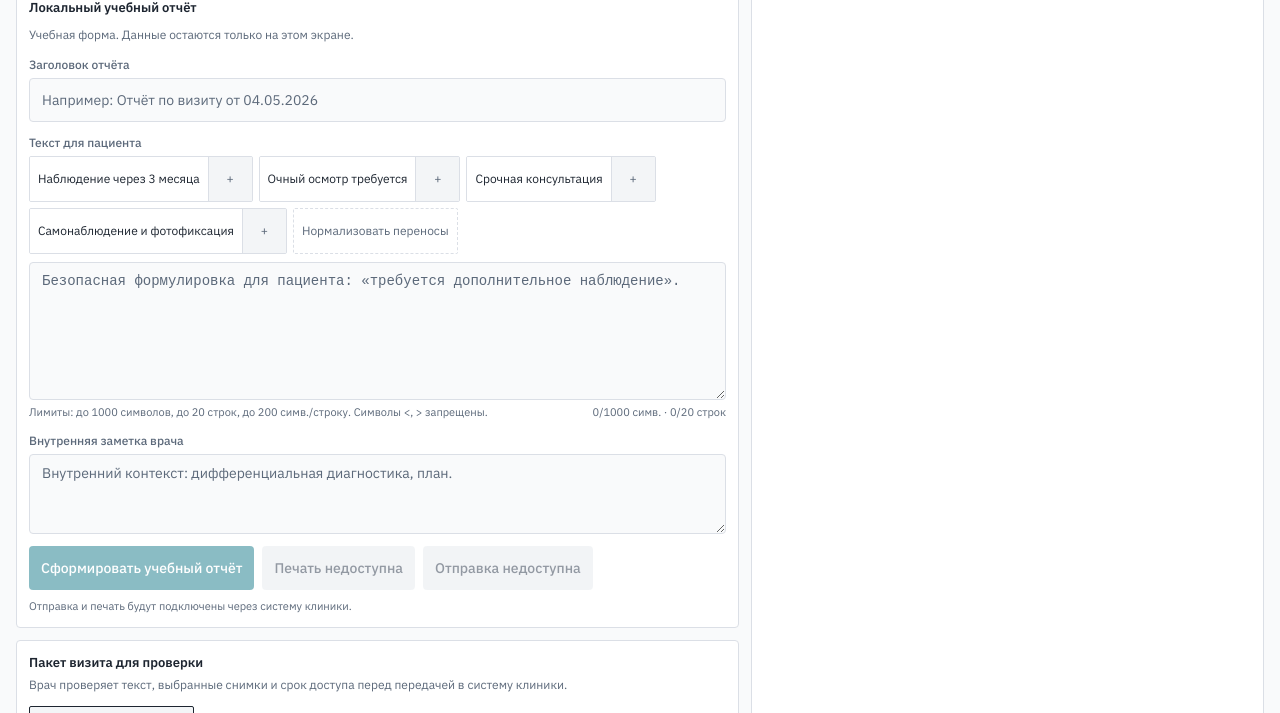
Test: VisitReportTab · demo report form › creates local preview after click and shows patient/internal blocks
(page scrolled)
Replace the text in the text box labelled "Текст для пациента" with "Пожалуйста, запишитесь на повторный осмотр." at x=378, y=330, box [29,262,726,400]
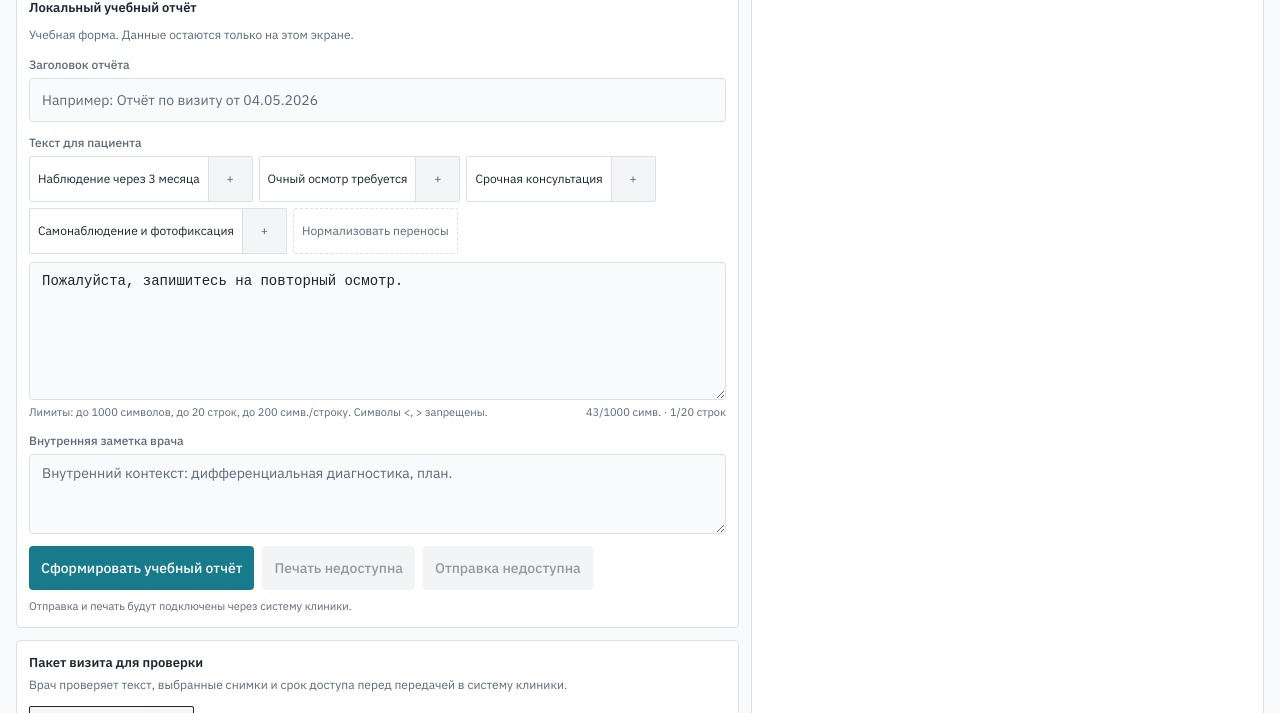
Type "ДД: невус vs. атипия." into the text box labelled "Внутренняя заметка врача".
click(378, 494); type("ДД: невус vs. атипия.")  # box [29,454,726,534]
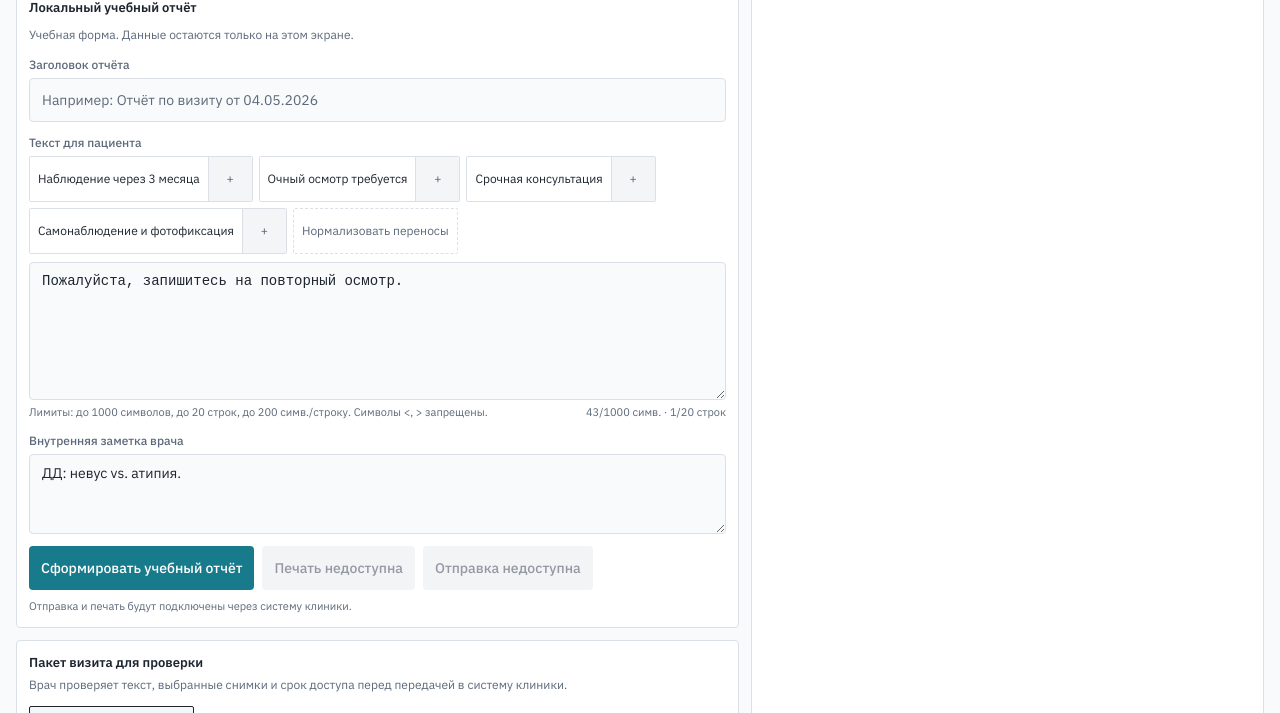
Click the button "Сформировать учебный отчёт".
click(142, 568)  # box [29,546,254,590]
(page scrolled)
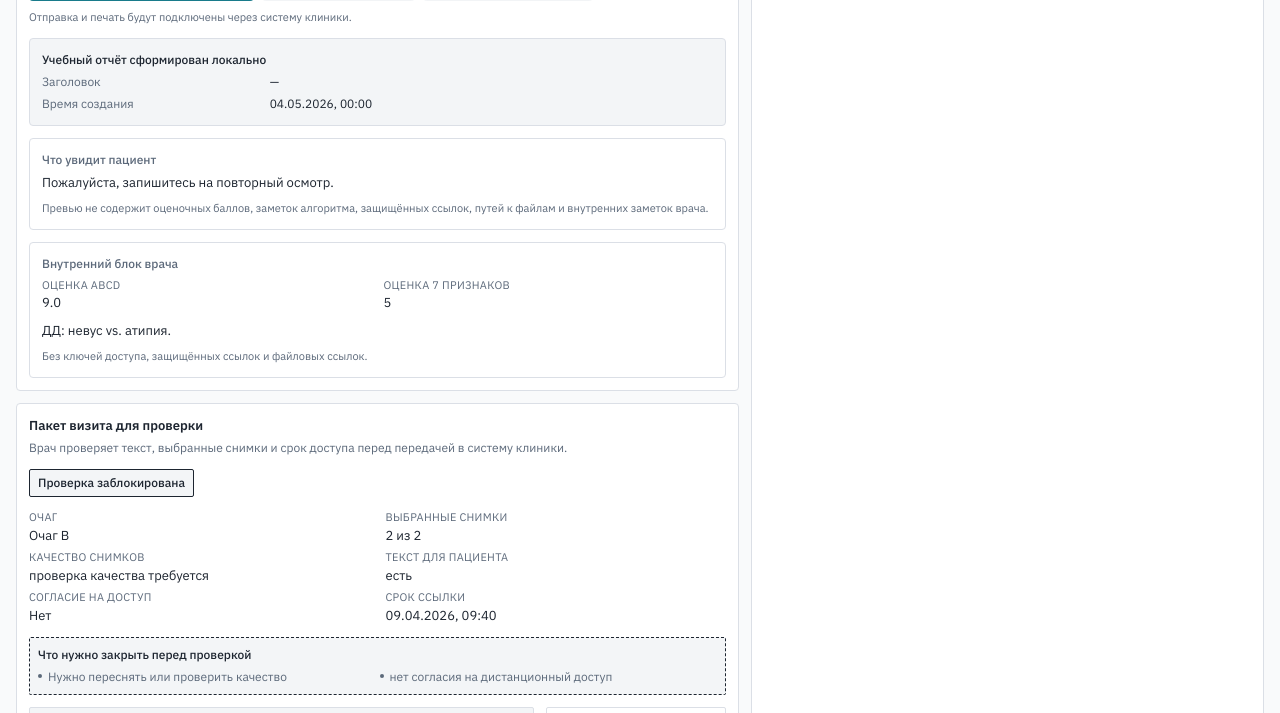
Check: the text "Учебный отчёт сформирован локально" is shown, box [42,52,266,66]
Check: the text "Пожалуйста, запишитесь на повторный осмотр." is shown, box [42,174,334,190]
Check: the text "ДД: невус vs. атипия." is shown, box [42,322,171,338]
